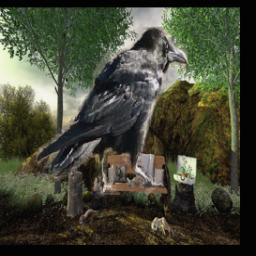Crow: (34, 25, 188, 202)
